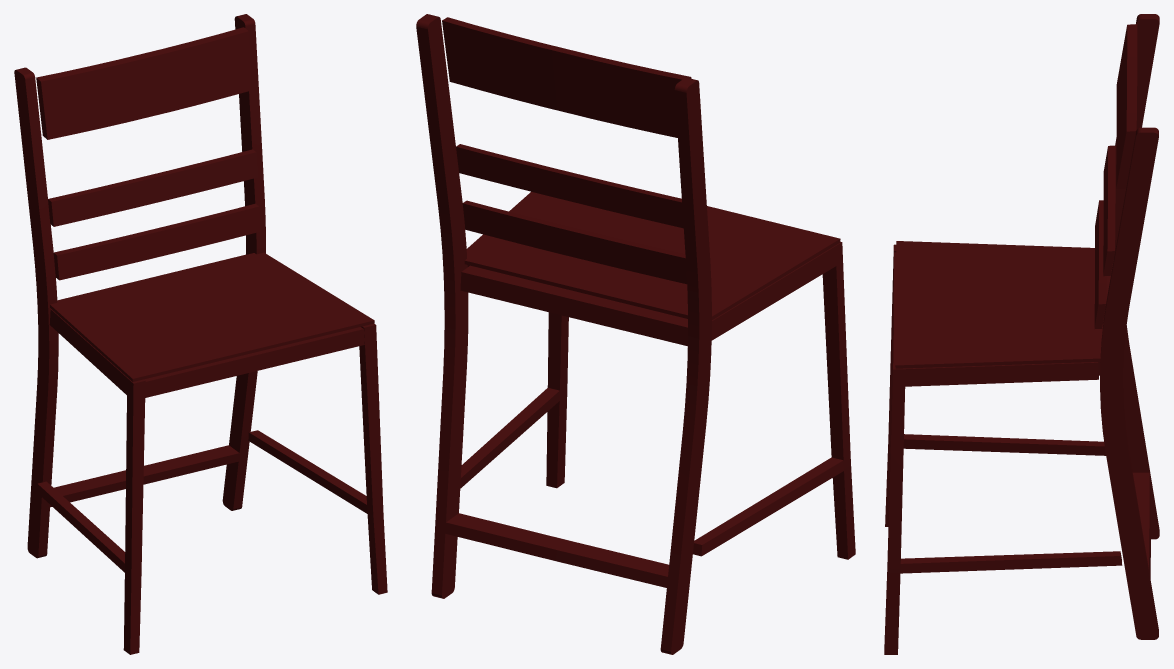
File: Chair.FBX
3 renders of one model, left to right at view 1: azimuth 30°, elevation 25°; view 2: azimuth 150°, elevation 25°; view 3: azimuth 270°, elevation 25°, orthographic. The views are drawn at different scales.
Visible parts, largest first — view 1: Object02; view 2: Object02; view 3: Object02.
Boxes of the visible parts, x1,y1,x2,y2 form: Object02: [14, 14, 387, 654]; Object02: [416, 14, 855, 654]; Object02: [884, 14, 1159, 654].
Bounding box in the file's own units: 518 × 941 × 455.
